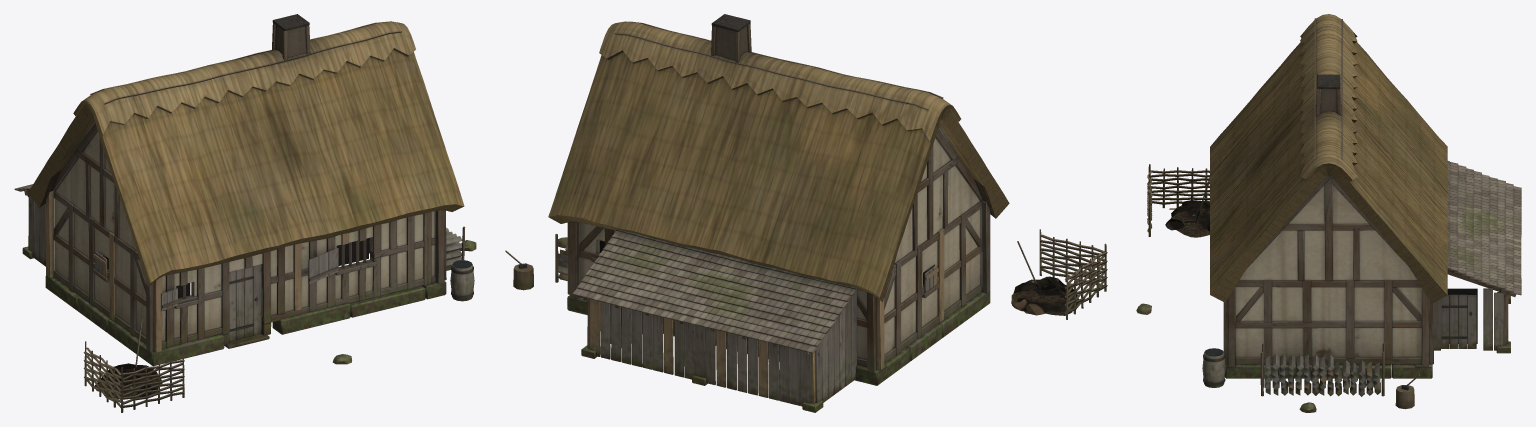
The model's file is house_b.glb.
3 renders of one model, left to right at view 1: azimuth 30°, elevation 25°; view 2: azimuth 150°, elevation 25°; view 3: azimuth 270°, elevation 25°, orthographic. The views are drawn at different scales.
Visible parts, largest first — view 1: house_b_LOD0; view 2: house_b_LOD0; view 3: house_b_LOD0.
Part boxes in pixels (<box>): house_b_LOD0: <box>14,14,476,412</box>; house_b_LOD0: <box>505,14,1107,412</box>; house_b_LOD0: <box>1136,14,1521,412</box>.
Size of what is drawn, in the model's own units: 12.16 by 6.87 by 9.58.
Materials: 1 (1 with a texture image).
